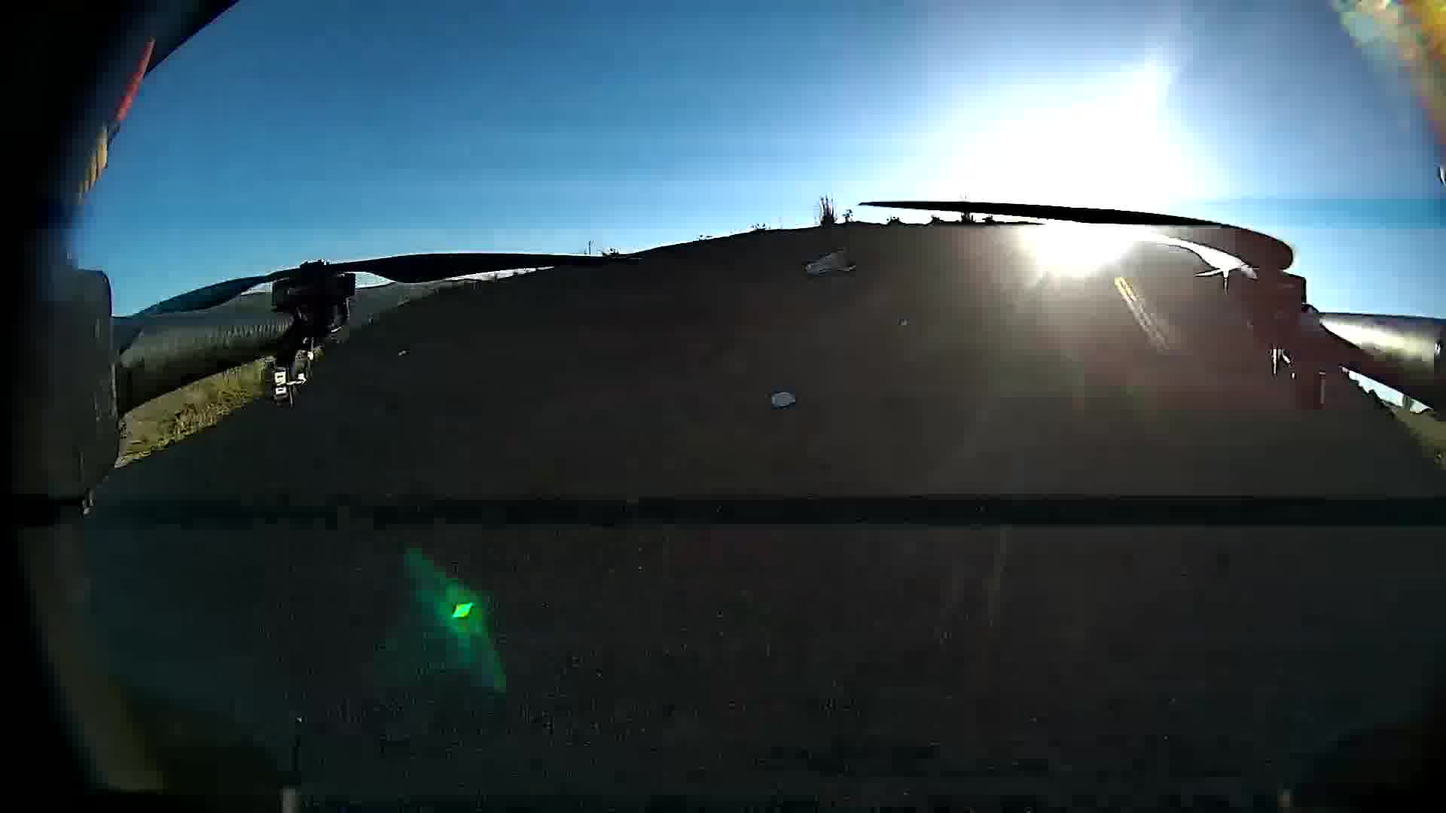Target: (770, 389, 799, 408)
